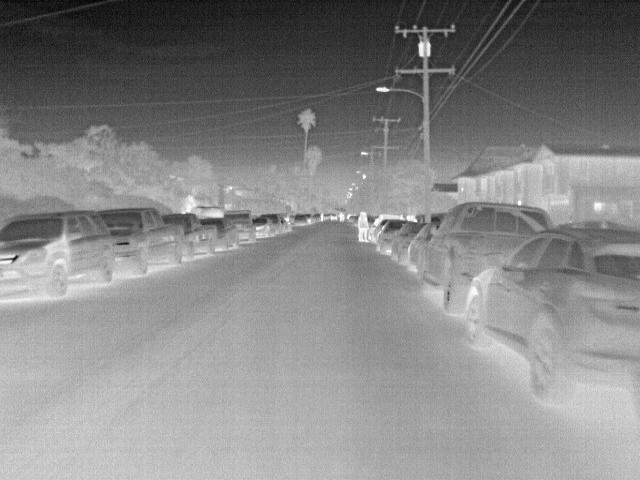car: (462, 228, 638, 410), (419, 201, 553, 316), (2, 208, 117, 300), (96, 206, 183, 273), (160, 212, 219, 260), (390, 220, 430, 268), (197, 218, 237, 252), (377, 219, 408, 256), (222, 212, 256, 243), (253, 215, 272, 237), (264, 213, 282, 235), (290, 213, 308, 228)
person: (358, 211, 372, 243)
